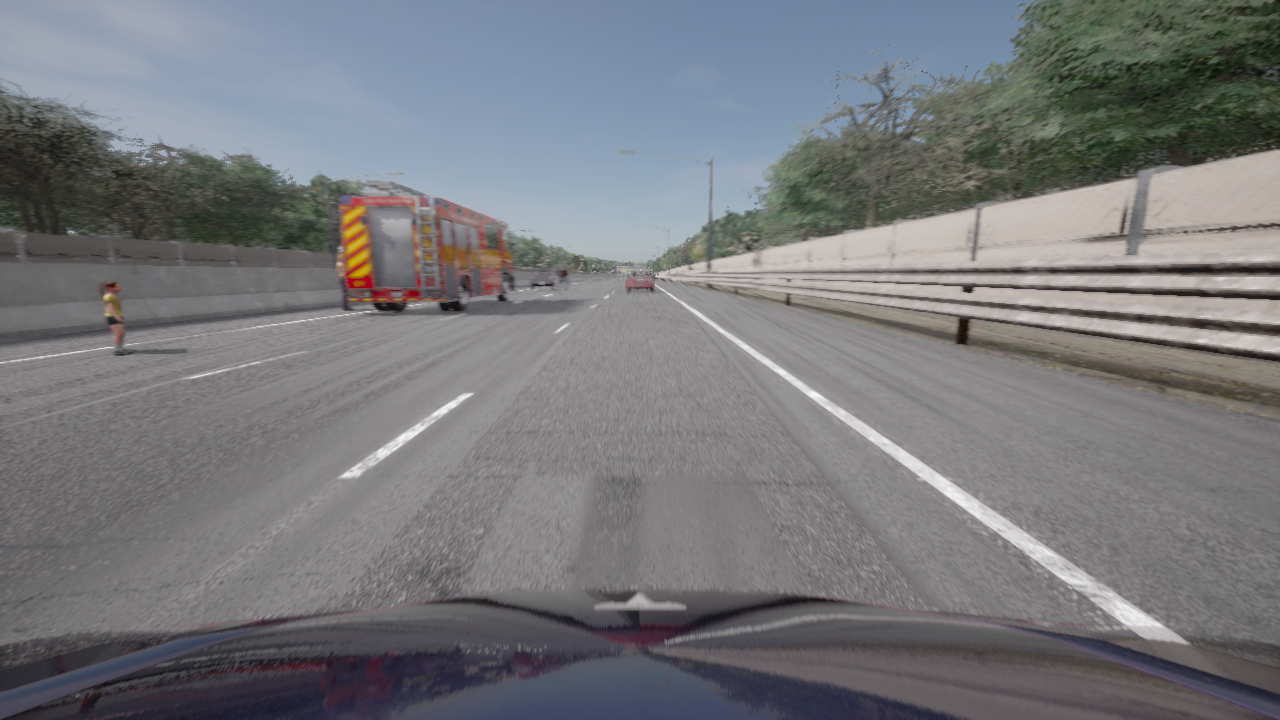cyclist: (0, 588, 1279, 719), (340, 180, 517, 311), (626, 270, 653, 292), (531, 270, 558, 290), (560, 282, 567, 300)
pedestrian: (99, 281, 131, 354), (336, 253, 352, 309)
